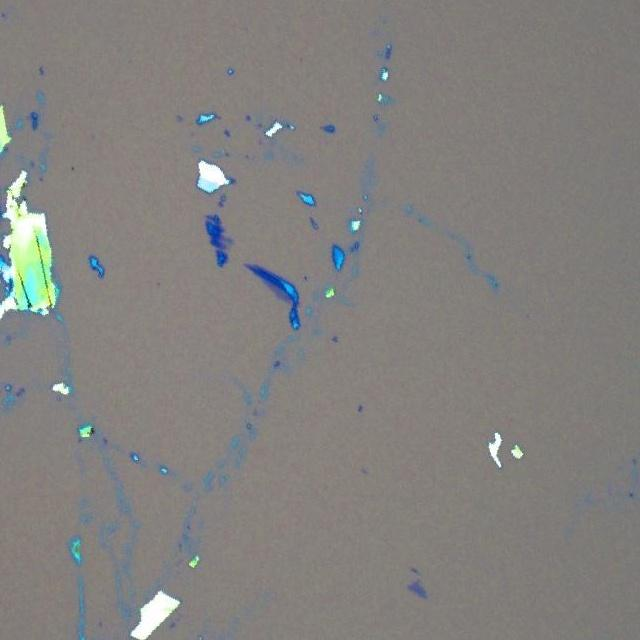monolayer-eWW4: (262, 280, 290, 303)
